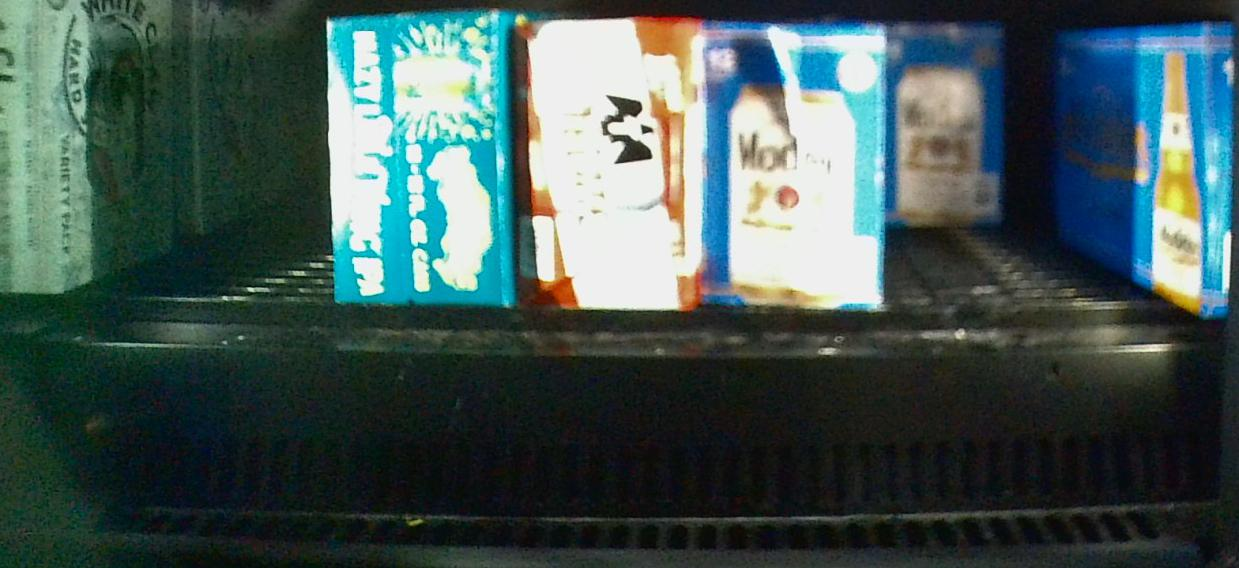bottle: (700, 18, 887, 324), (326, 12, 515, 312), (517, 18, 695, 315), (1054, 25, 1230, 319), (886, 24, 1002, 231)
